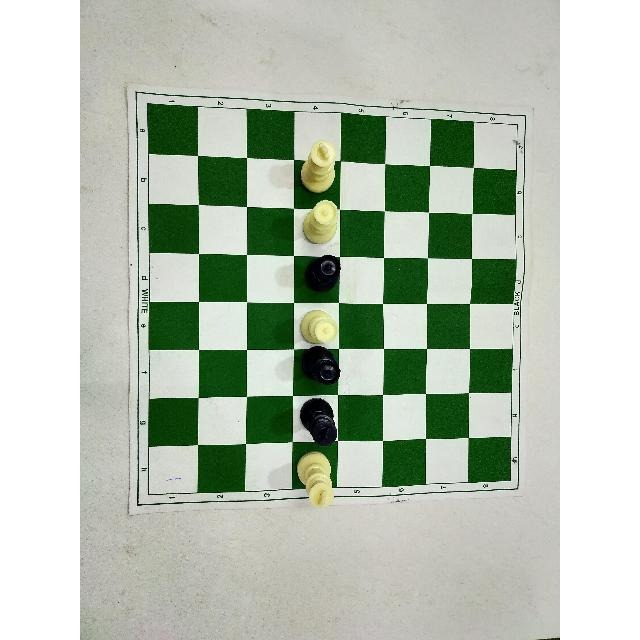black-king: (293, 390, 342, 447), (297, 396, 339, 448)
black-queen: (293, 339, 345, 391), (298, 248, 350, 291), (299, 345, 341, 386), (304, 252, 344, 291)
white-king: (291, 440, 343, 511), (291, 135, 343, 196), (295, 447, 339, 510), (296, 138, 340, 194)
white-queen: (291, 302, 345, 353), (299, 192, 347, 247), (300, 196, 339, 247), (296, 307, 340, 343)
